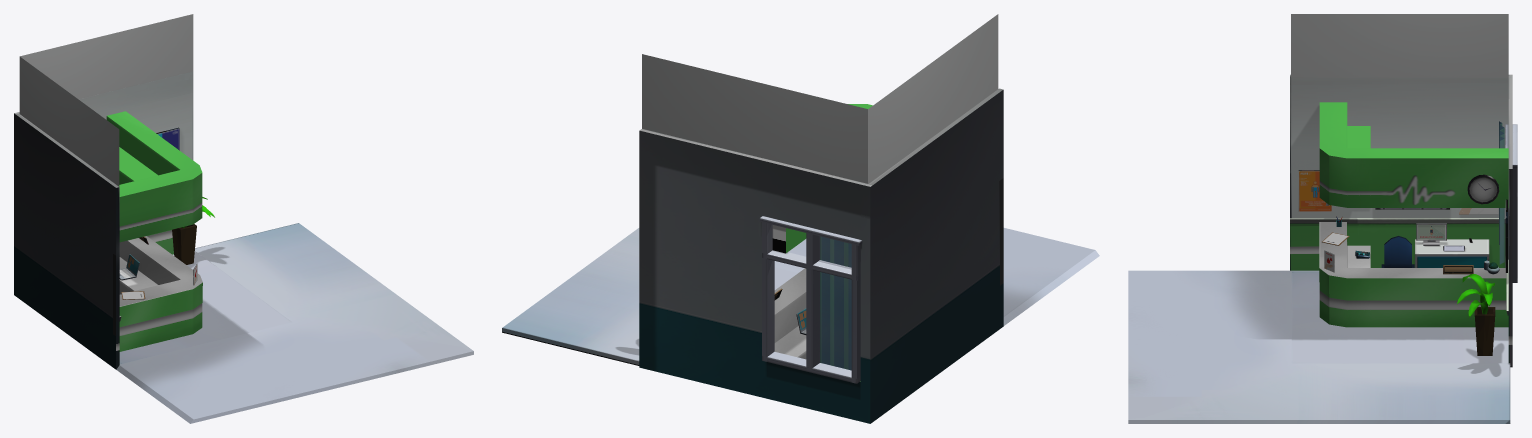
The model's file is Tx_Interior_Work_NurseDeskHospital.fbx.
The picture shows the model from 3 angles, left to right: view 1: azimuth 30°, elevation 25°; view 2: azimuth 150°, elevation 25°; view 3: azimuth 270°, elevation 25°; orthographic projection. The views are drawn at different scales.
Parts seen in each view (by area): view 1: Tx_Interior_Work_NurseDkH; view 2: Tx_Interior_Work_NurseDkH; view 3: Tx_Interior_Work_NurseDkH.
Boxes of the visible parts, x1=… form: Tx_Interior_Work_NurseDkH: x1=14, y1=14, x2=473, y2=423; Tx_Interior_Work_NurseDkH: x1=502, y1=14, x2=1099, y2=423; Tx_Interior_Work_NurseDkH: x1=1128, y1=14, x2=1517, y2=423.
Bounding box in the file's own units: 36.41 × 29.33 × 39.64.
3 materials, 3 textured.
